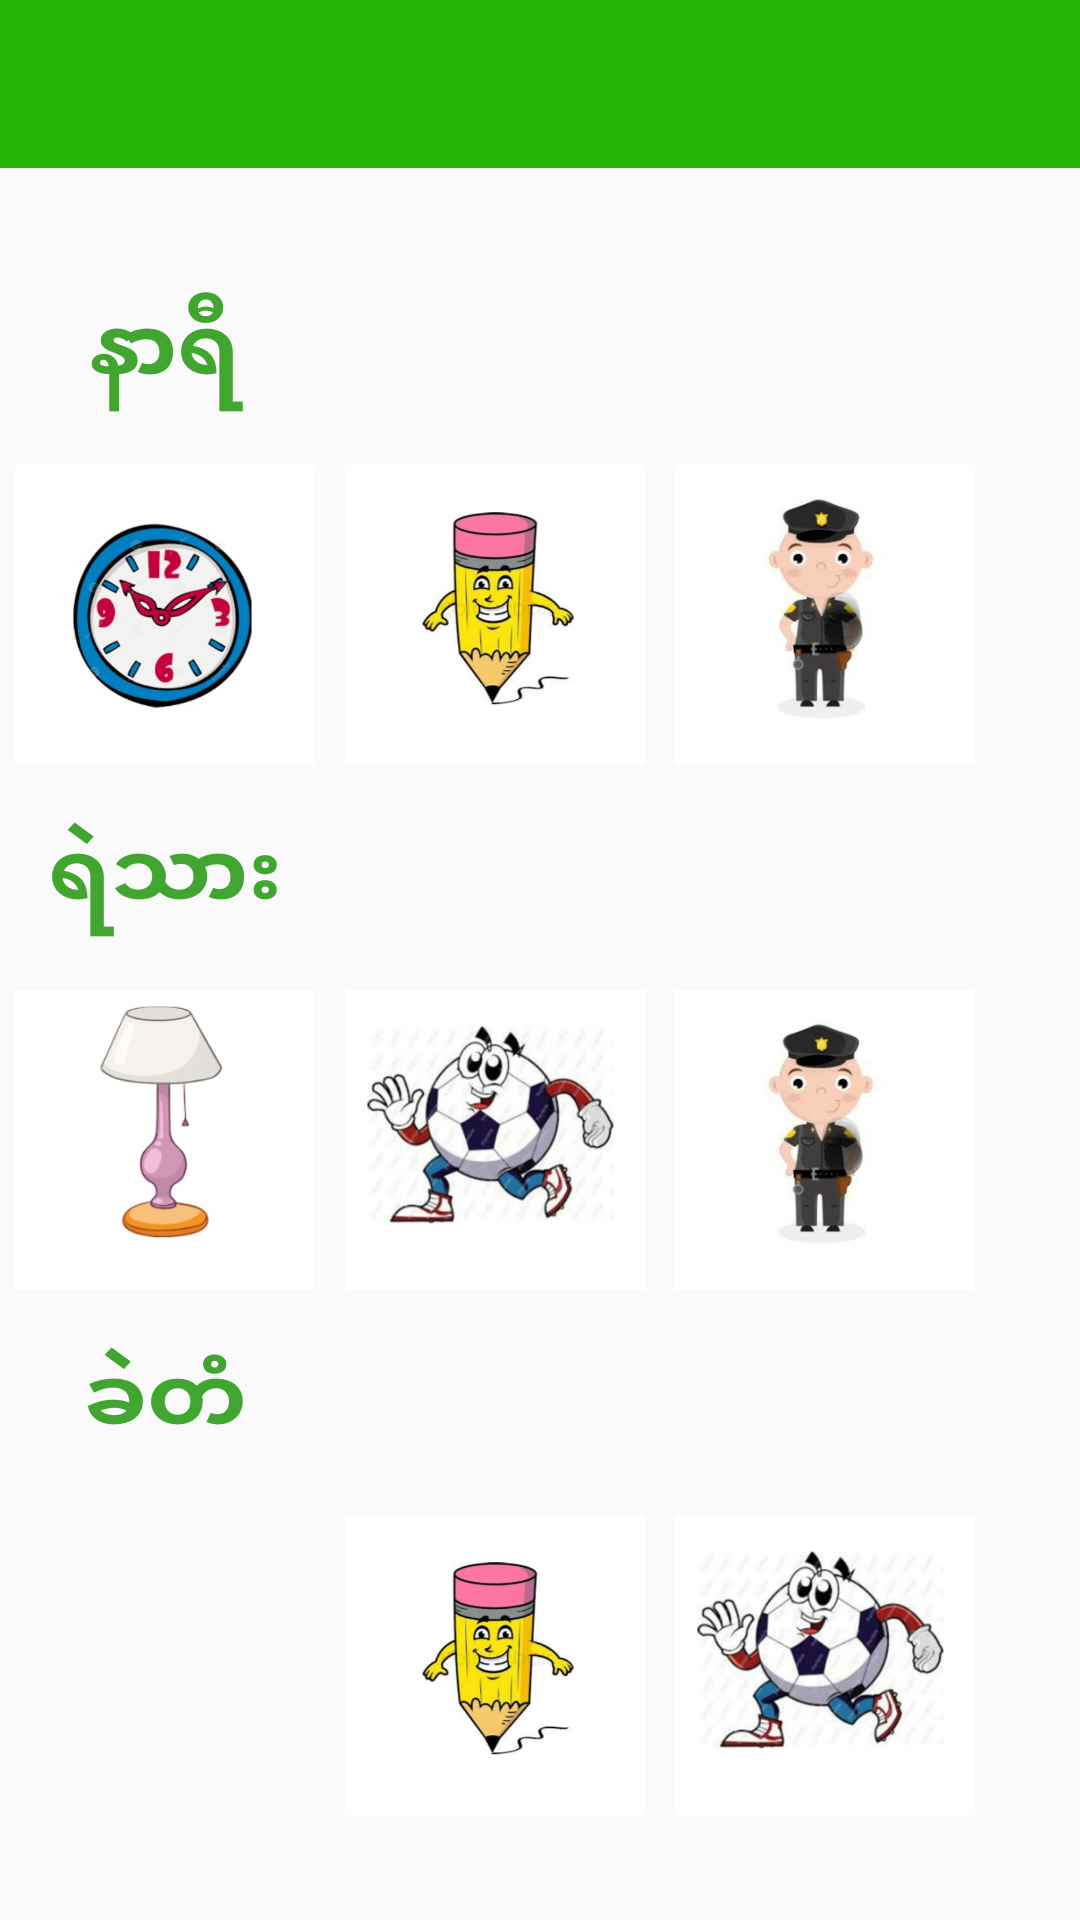

Named icons in this screenshot (1080px×1920px) and their bounding boxes, (x1=x1, y1=y1, x2=x2, y2=y2):
ball: (x1=367, y1=1026, x2=614, y2=1224), (x1=697, y1=1551, x2=944, y2=1749)
clock: (x1=73, y1=523, x2=252, y2=708)
lamp: (x1=100, y1=1006, x2=223, y2=1238)
pencil: (x1=422, y1=512, x2=574, y2=705), (x1=422, y1=1562, x2=574, y2=1755)
police: (x1=768, y1=499, x2=873, y2=708), (x1=768, y1=1024, x2=873, y2=1233)
